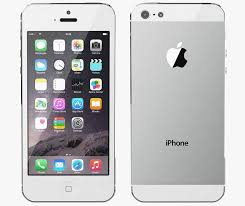iphone: (124, 1, 224, 206)
iphone5: (124, 1, 224, 205), (19, 1, 117, 204)
